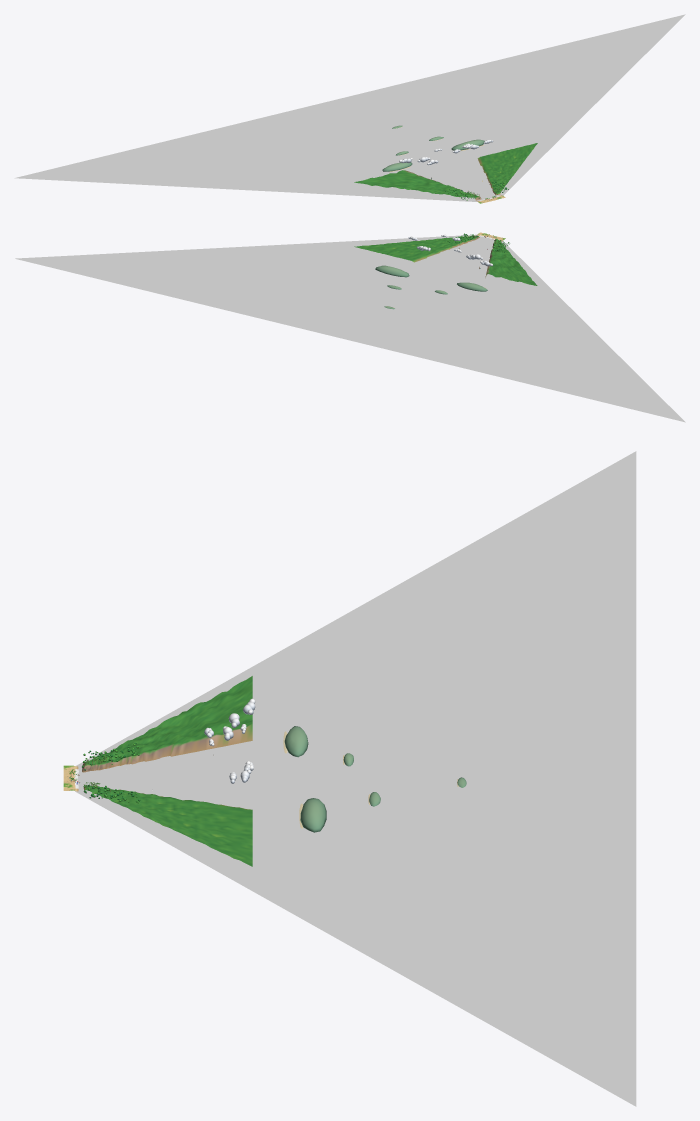
File: beach_scene.glb
The picture shows the model from 3 angles, top to bottom: view 1: azimuth 30°, elevation 25°; view 2: azimuth 150°, elevation 25°; view 3: azimuth 270°, elevation 25°; orthographic projection. The views are drawn at different scales.
Visible parts, largest first — view 1: far_sea, far_land, far_islands; view 2: far_sea, far_land, far_islands; view 3: far_sea, far_land, far_islands.
Part boxes in pixels (<box>): far_sea: <box>14,14,685,201</box>; far_land: <box>354,143,537,197</box>; far_islands: <box>382,125,484,172</box>; far_sea: <box>15,234,685,422</box>; far_land: <box>354,236,537,285</box>; far_islands: <box>375,265,487,309</box>; far_sea: <box>75,451,636,1106</box>; far_land: <box>84,676,252,866</box>; far_islands: <box>283,726,466,832</box>.
Bounding box in the file's own units: 3562 × 130 × 1314.
